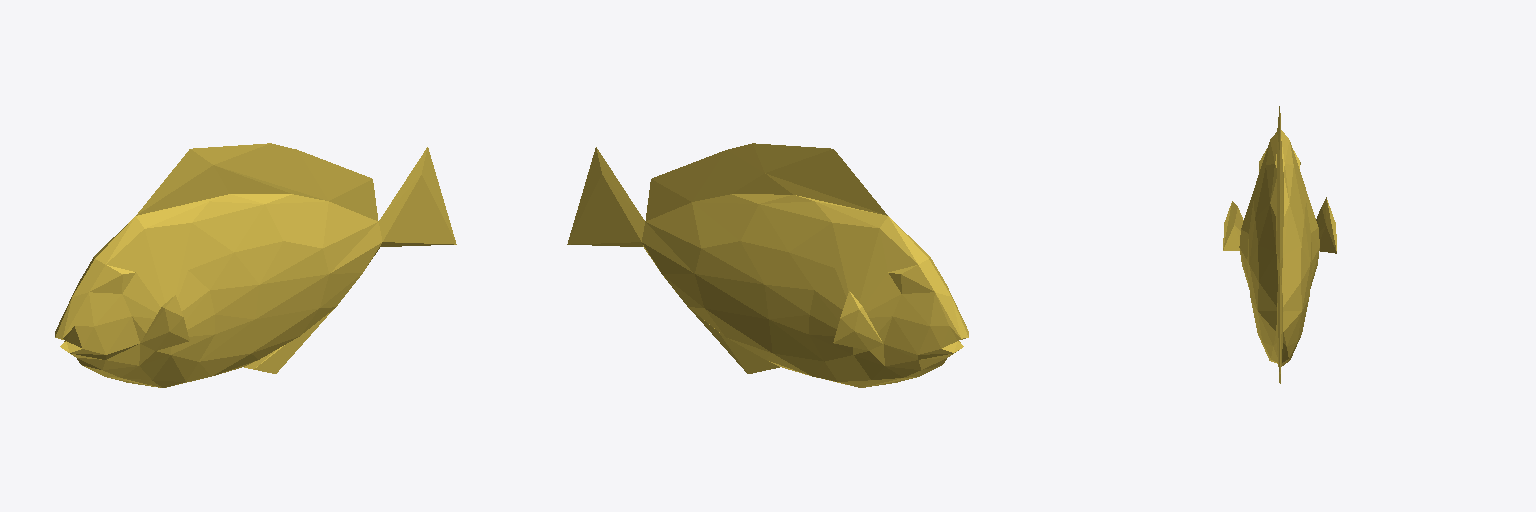
Rendered from Dori.obj.
3 renders of one model, left to right at view 1: azimuth 30°, elevation 25°; view 2: azimuth 150°, elevation 25°; view 3: azimuth 270°, elevation 25°, orthographic.
Visible parts, largest first — view 1: Dori; view 2: Dori; view 3: Dori.
Boxes of the visible parts, x1,y1,x2,y2 form: Dori: [55, 143, 456, 387]; Dori: [567, 143, 968, 387]; Dori: [1223, 106, 1336, 383].
Bounding box in the file's own units: 100 × 58.84 × 24.68.